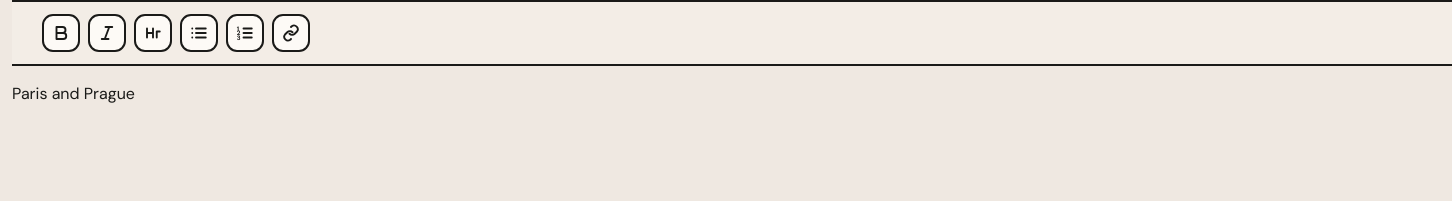
EditorToolbar › linking › offers to remove the link once the cursor is inside one
Click the button named "Add link". click: (291, 33)
box: [272,14,310,52]
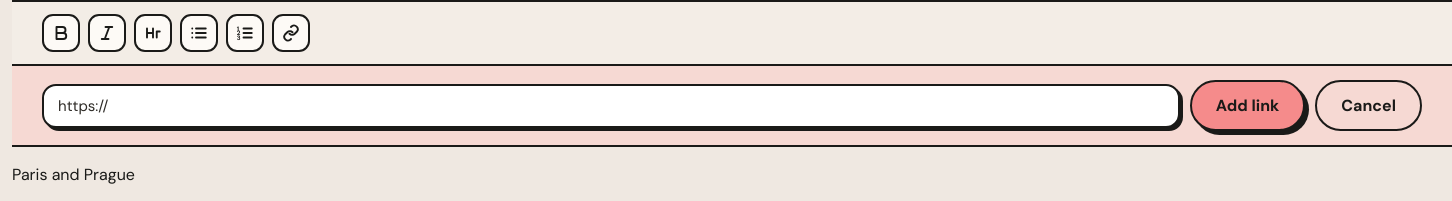
Replace the text in the field named "Link address" with "https://example.com/plans". click: (611, 106)
box: [42,84,1180,128]
Then press Enter
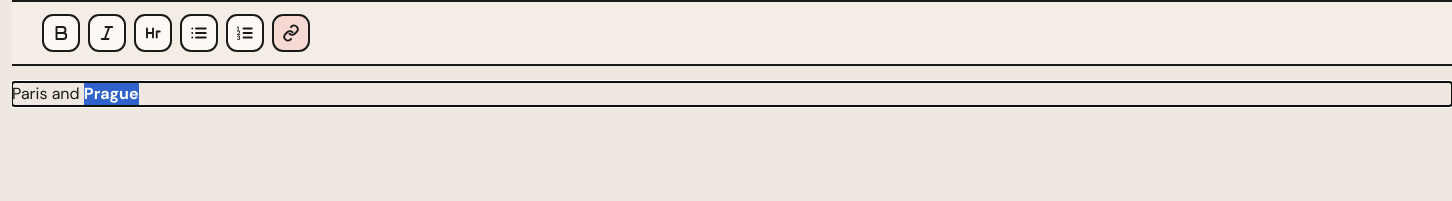
Now the button named "Remove link" is shown, box [272,14,310,52]
